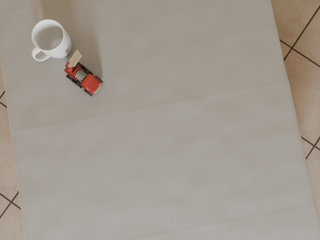cup: (32, 20, 72, 61)
toy_car: (65, 49, 103, 96)
